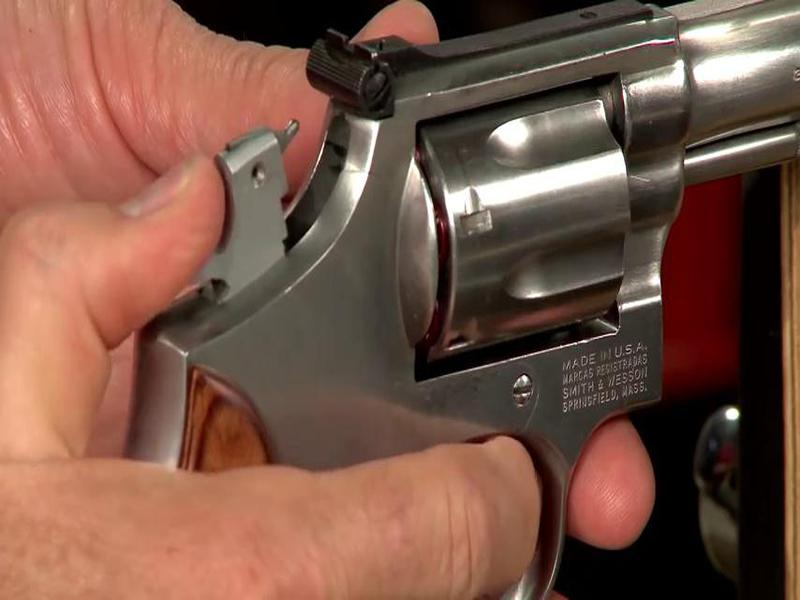Revolver: (141, 1, 794, 524)
